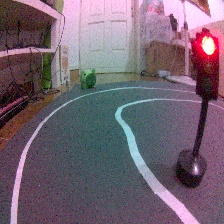red: (176, 25, 224, 192)
